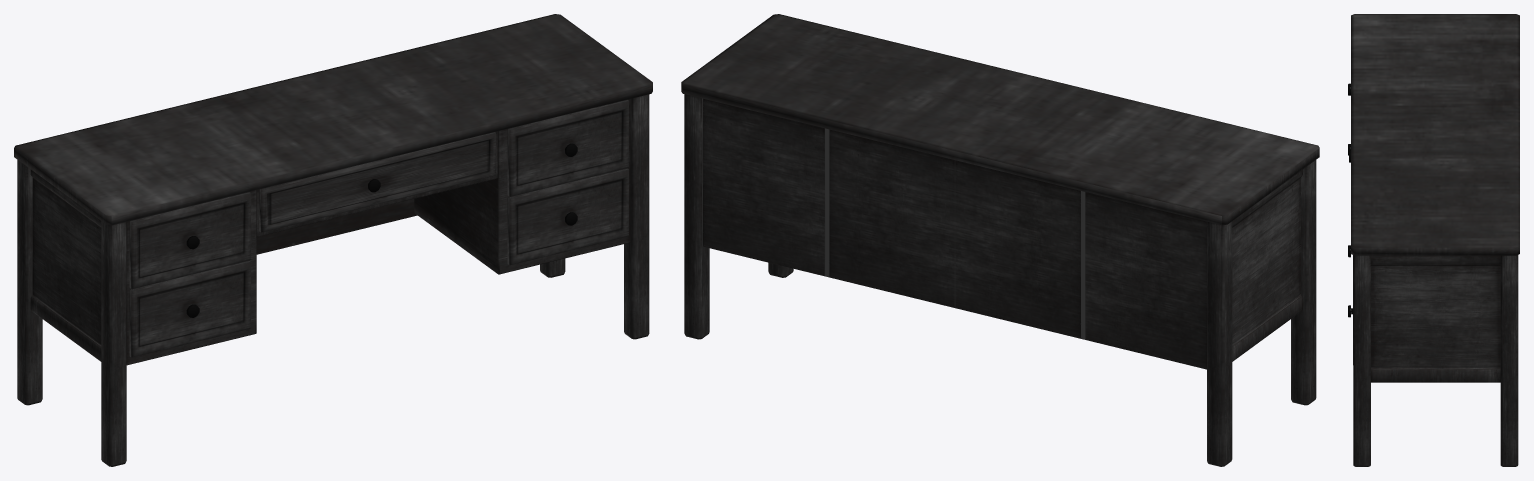
The model's file is Computerdesk 2.fbx.
3 renders of one model, left to right at view 1: azimuth 30°, elevation 25°; view 2: azimuth 150°, elevation 25°; view 3: azimuth 270°, elevation 25°, orthographic. The views are drawn at different scales.
Parts seen in each view (by area): view 1: Mesa 2, Mesa 2 3.004, Mesa 2 3, Mesa 2 3.002, Mesa 2 3.001, Mesa 2 3.003; view 2: Mesa 2; view 3: Mesa 2.
Part boxes in pixels (<box>): Mesa 2: <box>14,14,652,466</box>; Mesa 2 3.004: <box>259,132,495,232</box>; Mesa 2 3: <box>507,168,628,265</box>; Mesa 2 3.002: <box>129,260,250,357</box>; Mesa 2 3.001: <box>507,99,628,196</box>; Mesa 2 3.003: <box>129,192,250,288</box>; Mesa 2: <box>681,14,1319,466</box>; Mesa 2: <box>1351,14,1519,466</box>.
Bounding box in the file's own units: 126 × 55.95 × 39.34.
